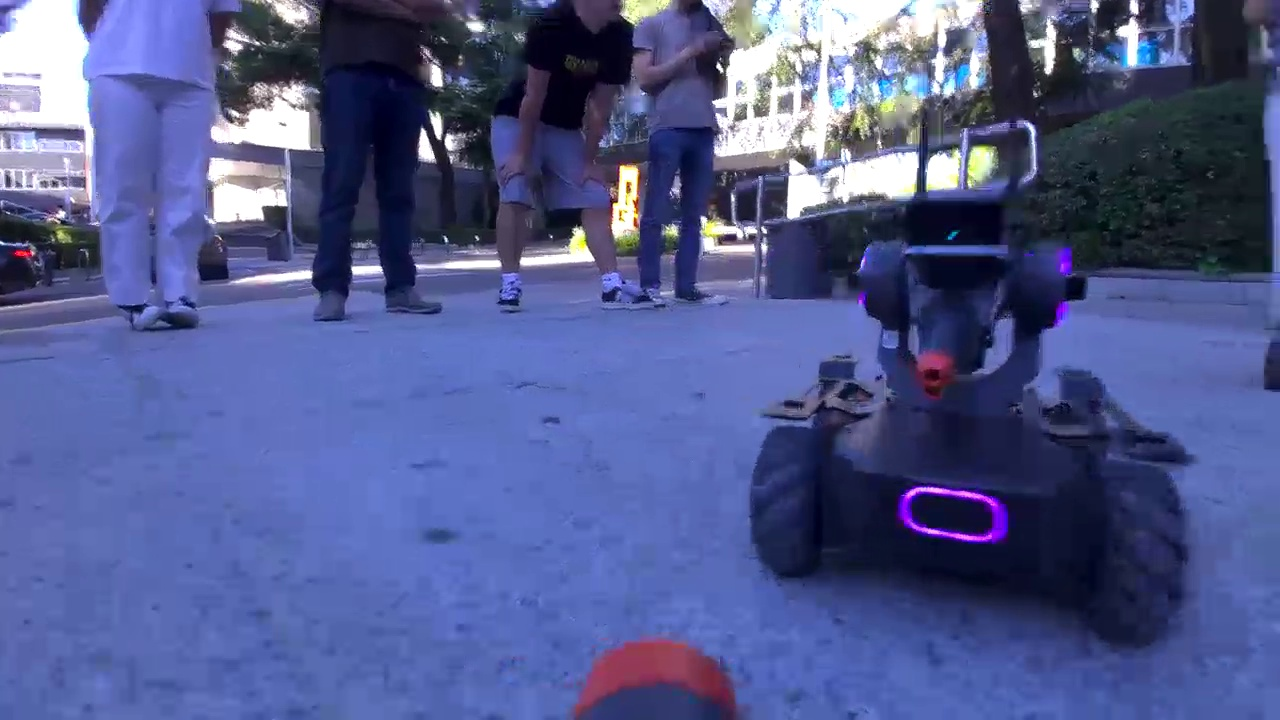robot: (746, 187, 1201, 651)
